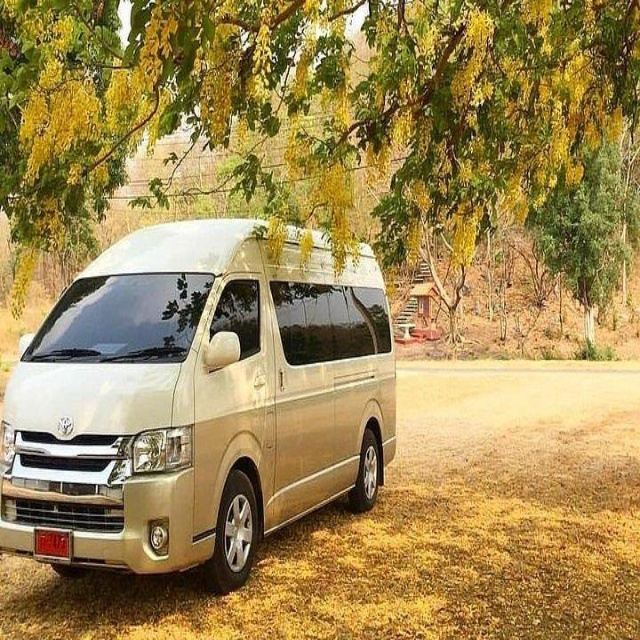Van: (3, 216, 397, 595)
